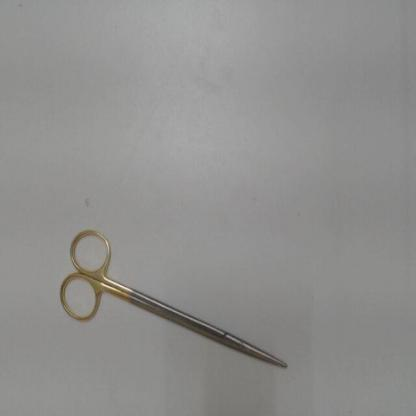7 Metzenbaum Scissors: (55, 221, 292, 374)
